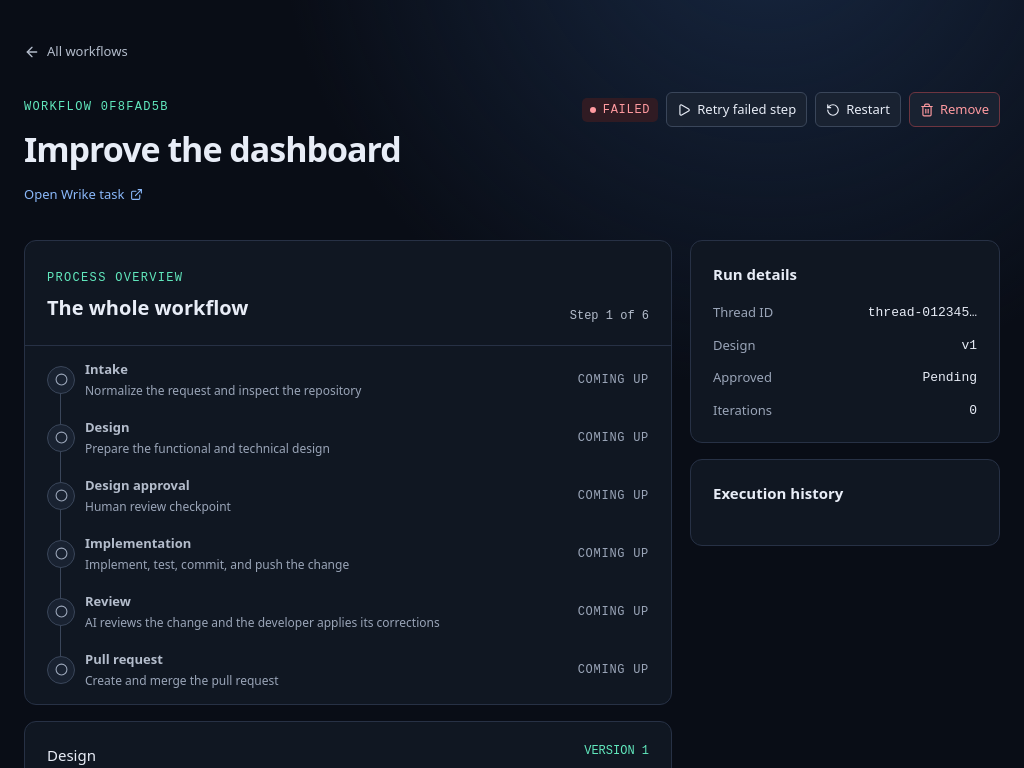
WorkflowDetailPage actions › removes after confirmation and reports failures
This screenshot has width=1024, height=768.
Check: the heading "Improve the dashboard" is shown, box top-left (24, 124), bottom-right (401, 175)
Click the button "Remove": (954, 110) top-left (909, 92), bottom-right (1000, 127)
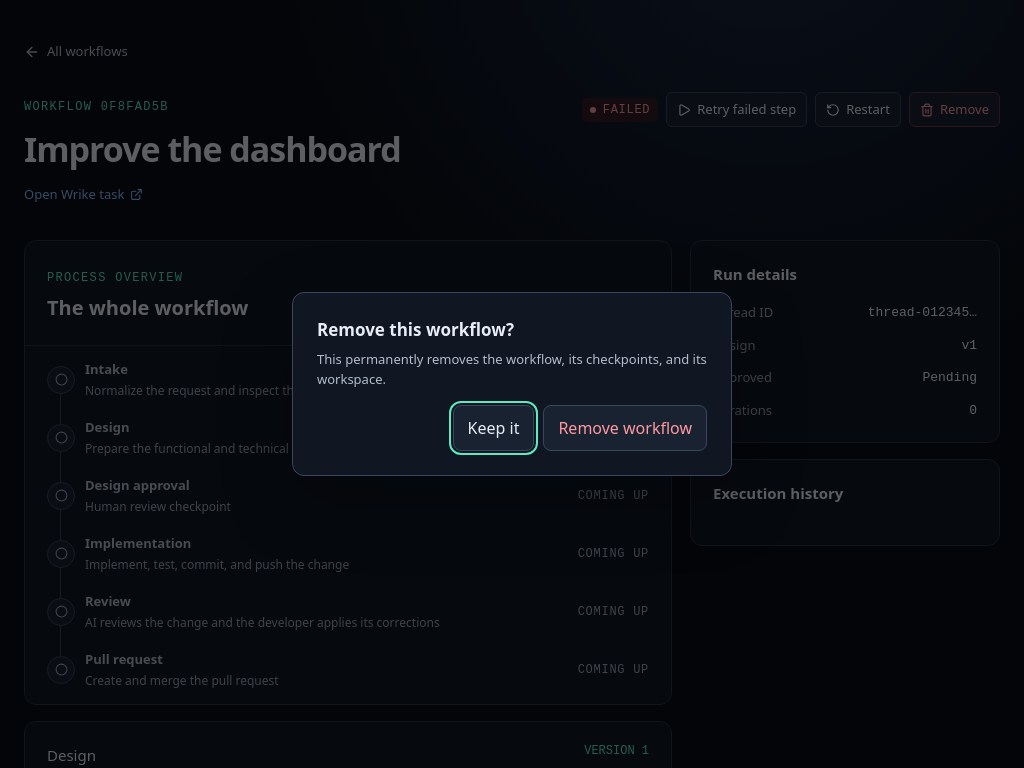
Click the button "Remove workflow": (625, 428) top-left (543, 405), bottom-right (707, 451)
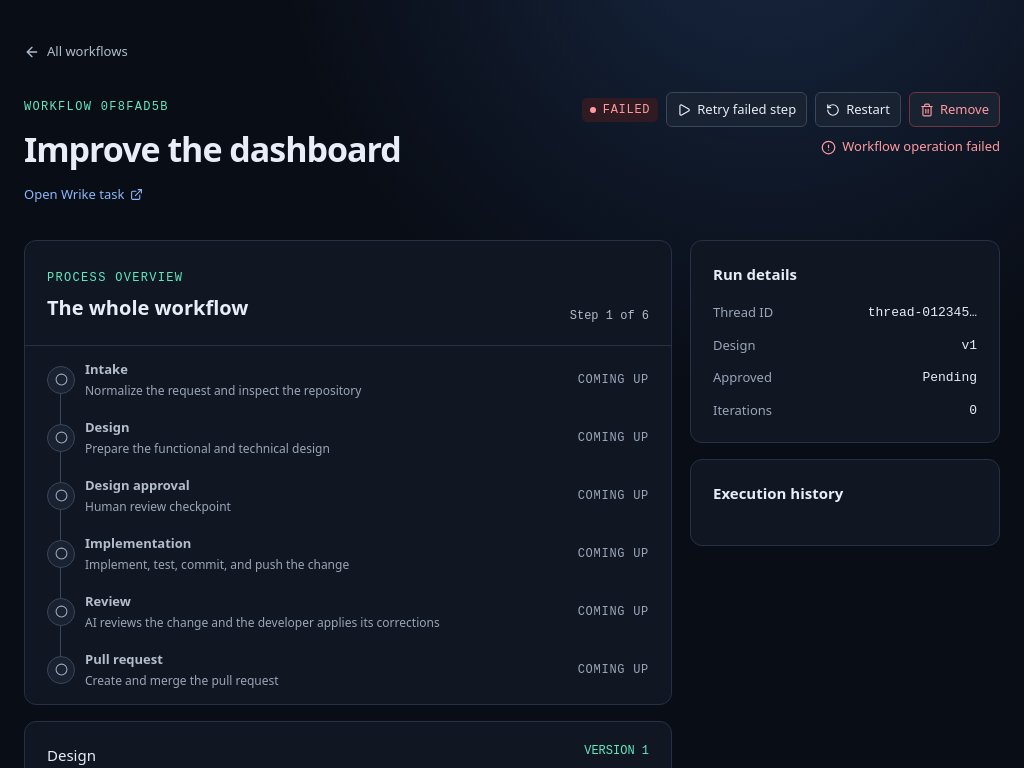
Check: the message reads "Workflow operation failed", box top-left (842, 137), bottom-right (1000, 155)
